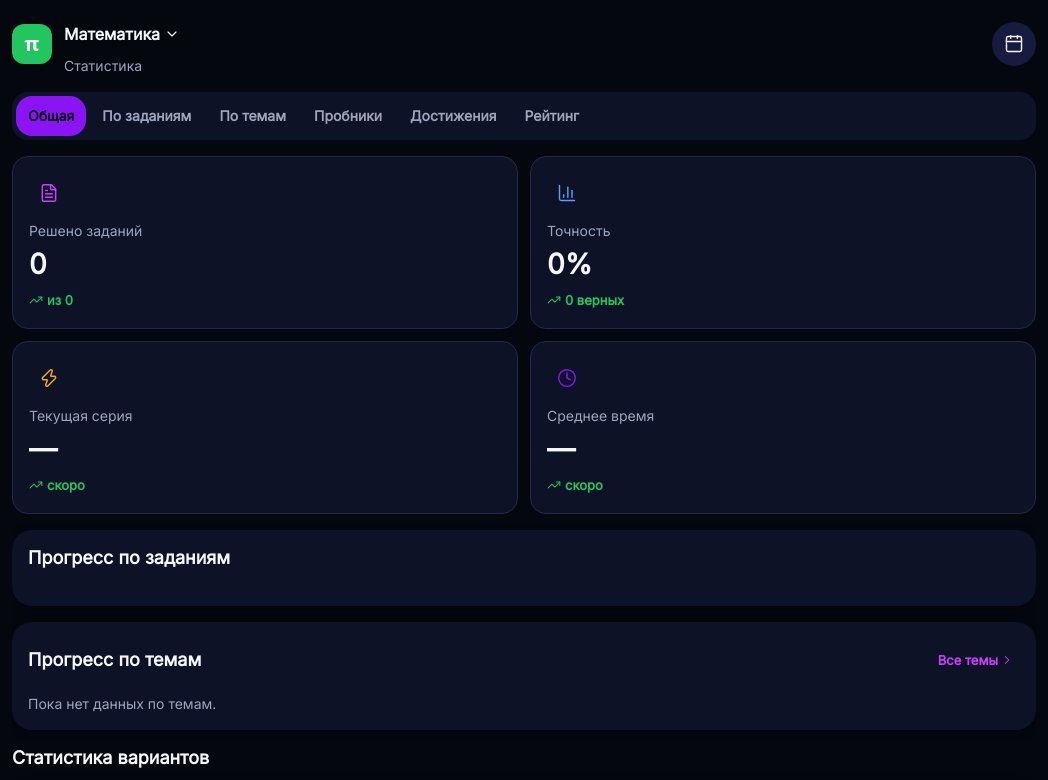
Test case: StatisticsMobile › Пробники tab shows the real Статистика вариантов empty state, never a fabricated "0 пробников решено"
This screenshot has width=1048, height=780.
Click the tab "Пробники" at (348, 116), box left=302, top=96, right=394, bottom=136
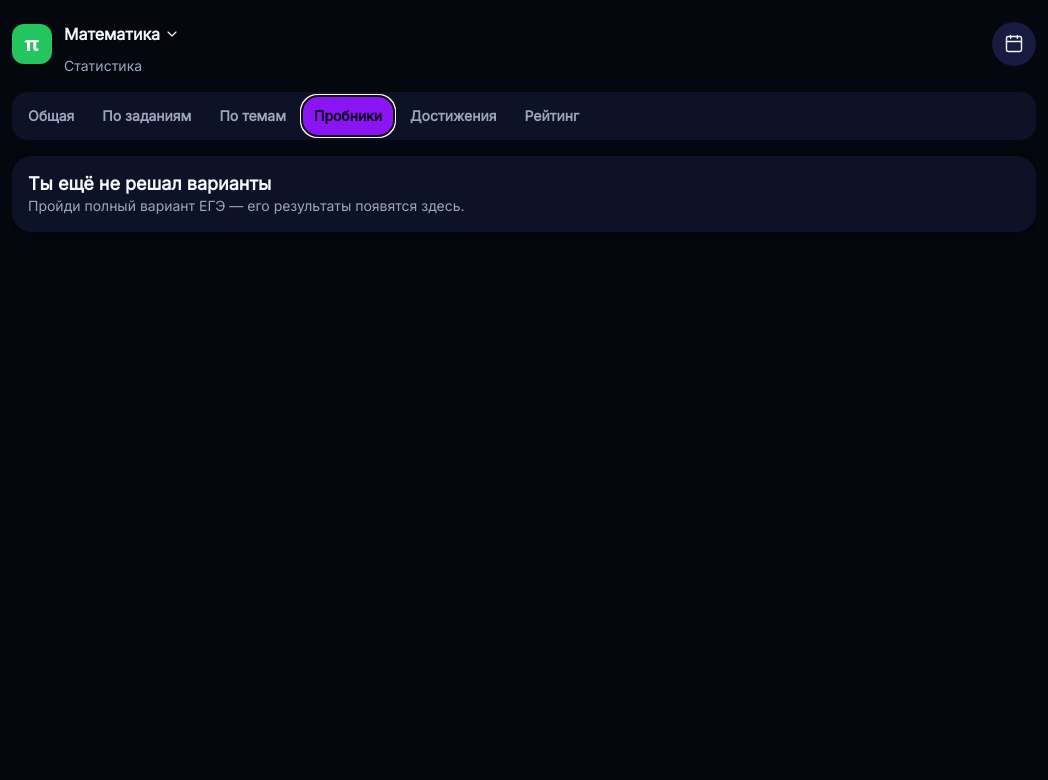
Result: the text "Ты ещё не решал варианты" is shown at left=28, top=173, right=271, bottom=194
Result: the text "Пройди полный вариант ЕГЭ — его результаты появятся здесь." is shown at left=28, top=197, right=465, bottom=214
